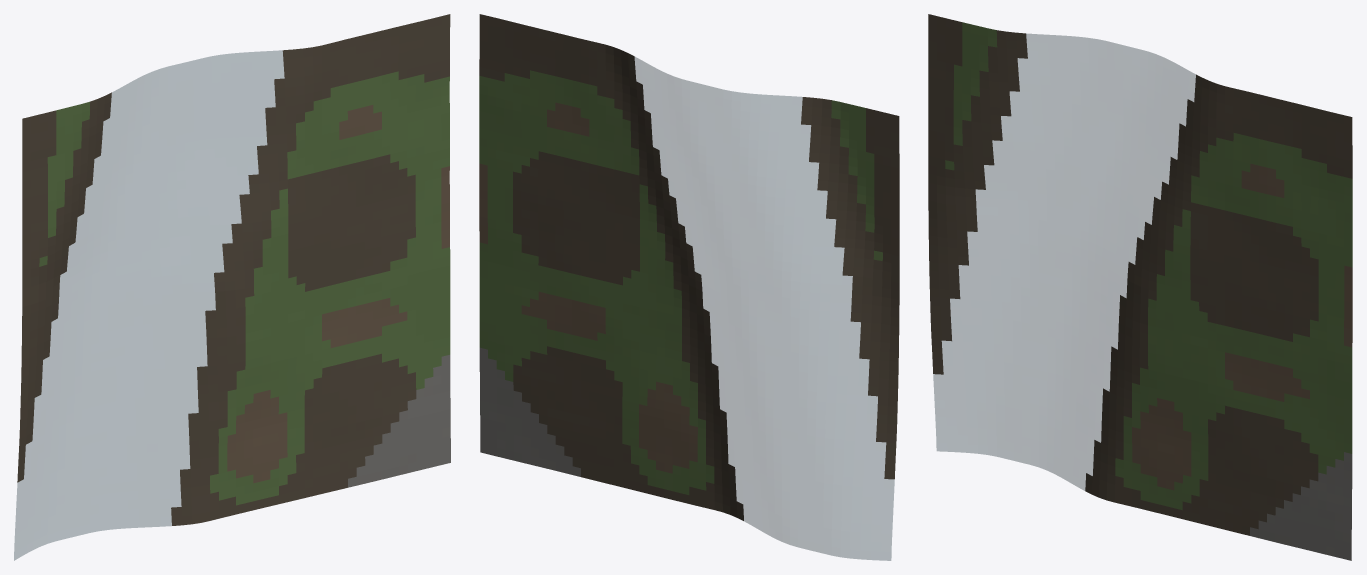
File: SARM_SAR_Terrain_00_00.glb
The picture shows the model from 3 angles, left to right: view 1: azimuth 30°, elevation 25°; view 2: azimuth 150°, elevation 25°; view 3: azimuth 330°, elevation 25°; orthographic projection. The views are drawn at different scales.
Parts seen in each view (by area): view 1: SAR_Terrain_00_00.001; view 2: SAR_Terrain_00_00.001; view 3: SAR_Terrain_00_00.001.
Part boxes in pixels (bbox=[...]): SAR_Terrain_00_00.001: bbox=[14, 14, 450, 560]; SAR_Terrain_00_00.001: bbox=[479, 14, 899, 560]; SAR_Terrain_00_00.001: bbox=[928, 14, 1352, 560].
Size of the model in its own units: 50 by 50 by 3.77.
